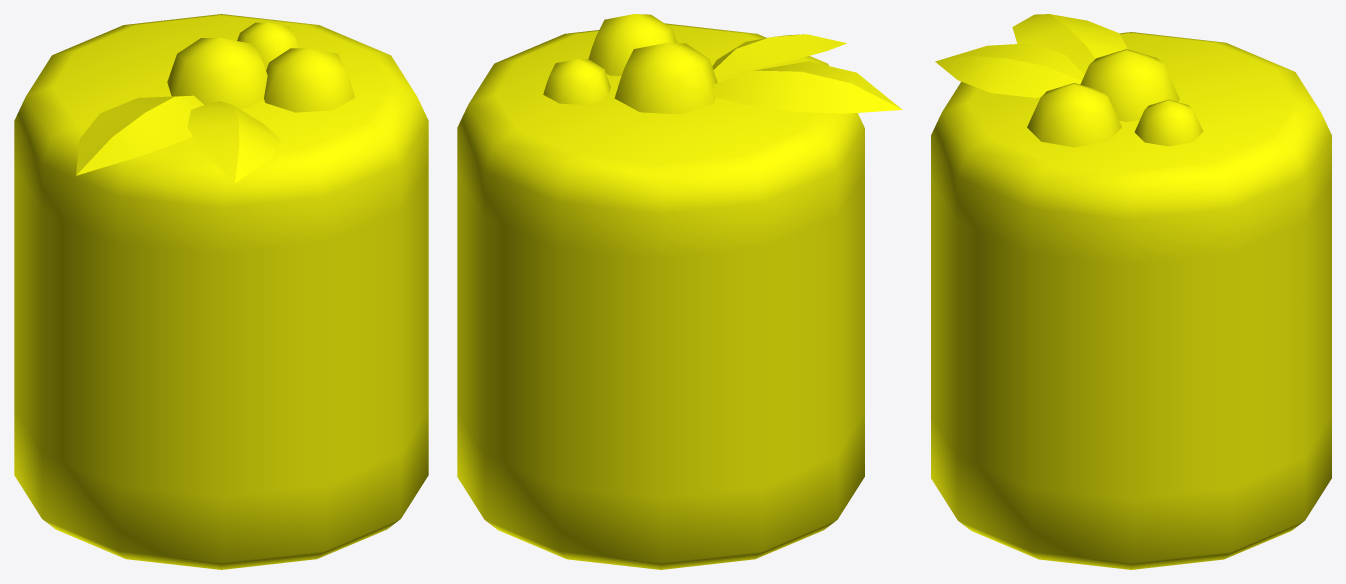
3 views of the same model, side by side, from view 1: azimuth 30°, elevation 25°; view 2: azimuth 150°, elevation 25°; view 3: azimuth 270°, elevation 25° (orthographic). The views are drawn at different scales.
Visible parts, largest first — view 1: m_MiniCake04; view 2: m_MiniCake04; view 3: m_MiniCake04.
Boxes of the visible parts, x1=… form: m_MiniCake04: x1=14, y1=14, x2=428, y2=569; m_MiniCake04: x1=457, y1=14, x2=902, y2=569; m_MiniCake04: x1=931, y1=14, x2=1331, y2=569.
Bounding box in the file's own units: 0.1185 × 0.1371 × 0.1134.
Materials: 1 (1 with a texture image).
